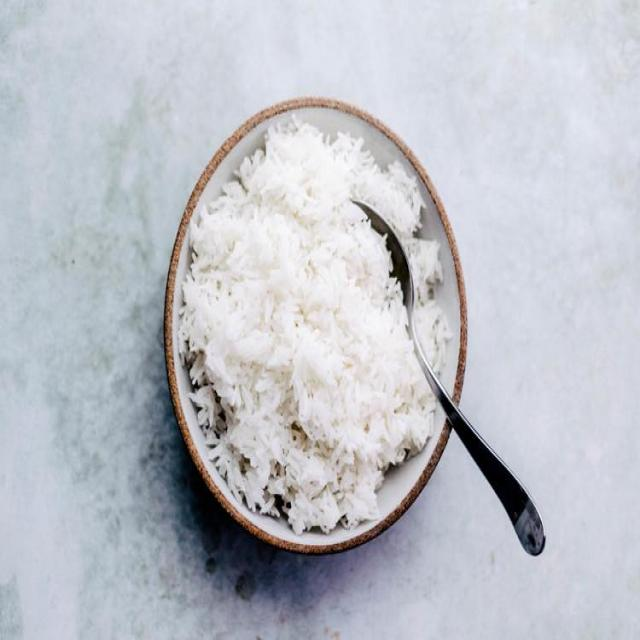rice: (183, 124, 449, 529)
